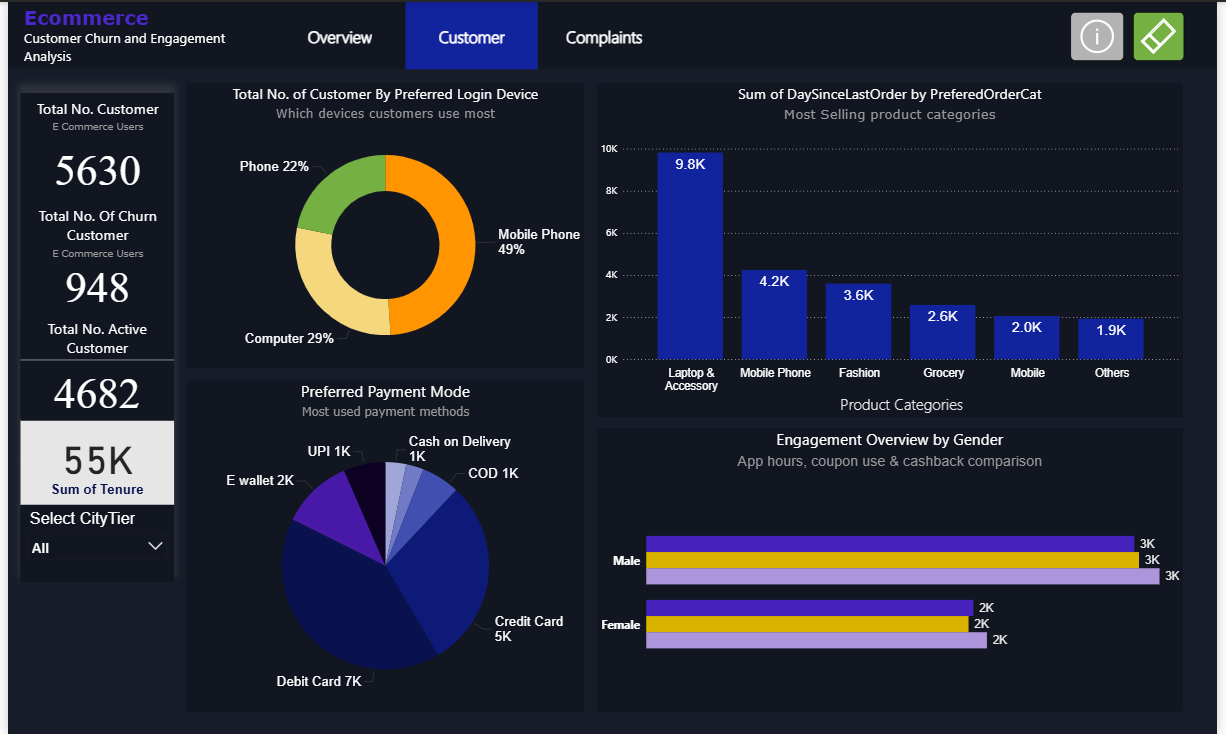

The page's visual inventory and layout, read from the dashboard file:
{"tool":"powerbi","page":{"name":"Customer Behavior","canvas":[1680,1020],"ordinal":1},"visuals":[{"type":"shape","box":[0,0,1680,93.1],"z":0},{"type":"actionButton","box":[370.2,0,182.5,93.9],"z":1000},{"type":"textbox","box":[17.4,0,352.9,93.9],"z":2000},{"type":"donutChart","title":"Total No. of Customer By Preferred Login Device","fields":{"Category":["E Comm.PreferredLoginDevice"],"Y":["CountNonNull(E Comm.CustomerID)"]},"box":[248.6,113,552.8,396.3],"z":3000},{"type":"columnChart","fields":{"Y":["Sum(E Comm.DaySinceLastOrder)"],"Category":["E Comm.PreferedOrderCat"]},"box":[818.7,113,815.2,464.1],"z":4000},{"type":"pieChart","title":"Preferred Payment Mode","fields":{"Series":["E Comm.PreferredPaymentMode"],"Y":["Sum(E Comm.OrderCount)"]},"box":[248.6,526.7,552.8,460.6],"z":5000},{"type":"clusteredBarChart","title":"Engagement Overview by Gender","fields":{"Y":["CountNonNull(E Comm.HourSpendOnApp)","CountNonNull(E Comm.CouponUsed)","CountNonNull(E Comm.CashbackAmount)"],"Category":["E Comm.Gender"]},"box":[818.7,592.7,815.2,394.6],"z":6000},{"type":"actionButton","box":[552.8,0,184.3,93.9],"z":7000},{"type":"actionButton","box":[737,0,184.3,93.9],"z":8000},{"type":"shape","box":[17.4,126.9,213.8,679.7],"z":9000},{"type":"card","title":"Total No. Customer","fields":{"Values":["CountNonNull(E Comm.CustomerID)"]},"box":[22.9,134.3,204.5,141.9],"z":10000},{"type":"card","title":"Total No. Of Churn Customer","fields":{"Values":["Sum(E Comm.Churn)"]},"box":[22.9,283.9,204.5,141.9],"z":11000},{"type":"card","title":"Total No. Active Customer","fields":{"Values":["E Comm.ActiveCustomer"]},"box":[17.4,439.8,213.8,137.3],"z":12000},{"type":"card","fields":{"Values":["Sum(E Comm.Tenure)"]},"box":[17.4,582.3,213.8,116.5],"z":13000},{"type":"slicer","fields":{"Values":["E Comm.CityTier"]},"box":[17.4,700.5,213.8,90.4],"z":14000},{"type":"actionButton","box":[1477.5,13.9,74.7,67.8],"z":15000},{"type":"actionButton","box":[1564.4,13.9,71.3,67.8],"z":16000}]}

Visuals, with their boxes in screenshot pixels (x1, y1, x2, y2), scaled from the page's 1680x1020 canvas onto the 1226x734 screenshot:
shape: detection(0, 0, 1225, 67)
actionButton: detection(270, 0, 403, 68)
textbox: detection(13, 0, 270, 68)
"Total No. of Customer By Preferred Login Device" donutChart: detection(181, 81, 585, 366)
columnChart - Sum(E Comm.DaySinceLastOrder) x E Comm.PreferedOrderCat: detection(597, 81, 1192, 415)
"Preferred Payment Mode" pieChart: detection(181, 379, 585, 710)
"Engagement Overview by Gender" clusteredBarChart: detection(597, 427, 1192, 710)
actionButton: detection(403, 0, 538, 68)
actionButton: detection(538, 0, 672, 68)
shape: detection(13, 91, 169, 580)
"Total No. Customer" card: detection(17, 97, 166, 199)
"Total No. Of Churn Customer" card: detection(17, 204, 166, 306)
"Total No. Active Customer" card: detection(13, 316, 169, 415)
card - Sum(E Comm.Tenure): detection(13, 419, 169, 503)
slicer - E Comm.CityTier: detection(13, 504, 169, 569)
actionButton: detection(1078, 10, 1133, 59)
actionButton: detection(1142, 10, 1194, 59)
